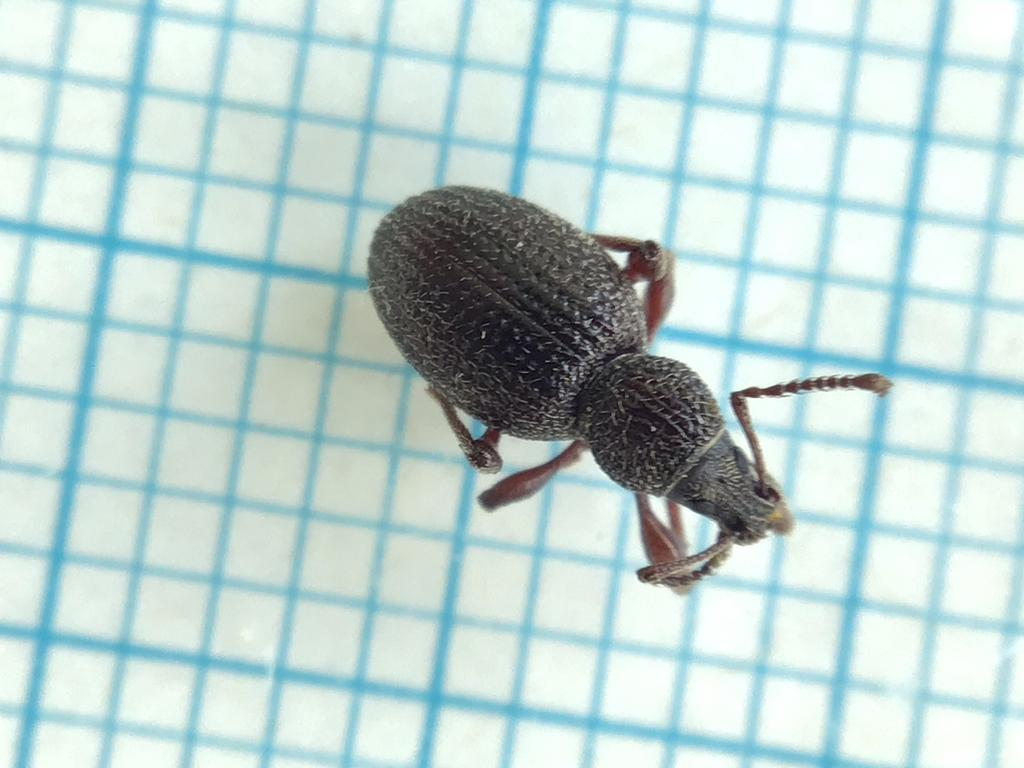weevils: (302, 142, 932, 652)
